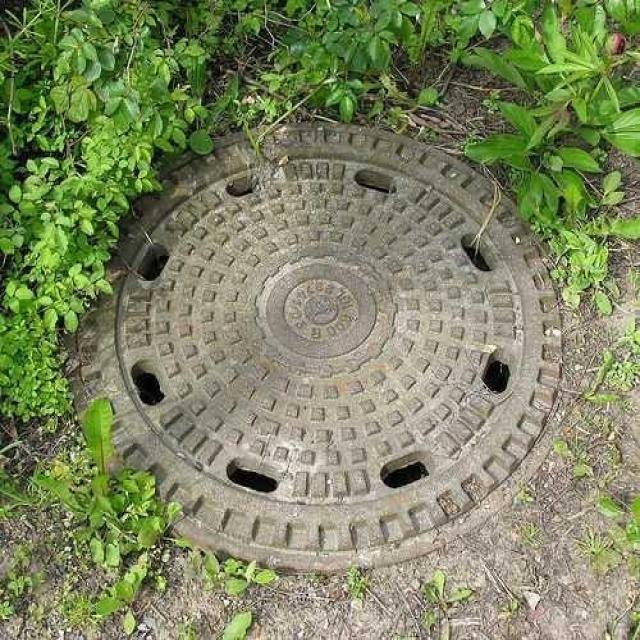manhole: (81, 124, 560, 570)
